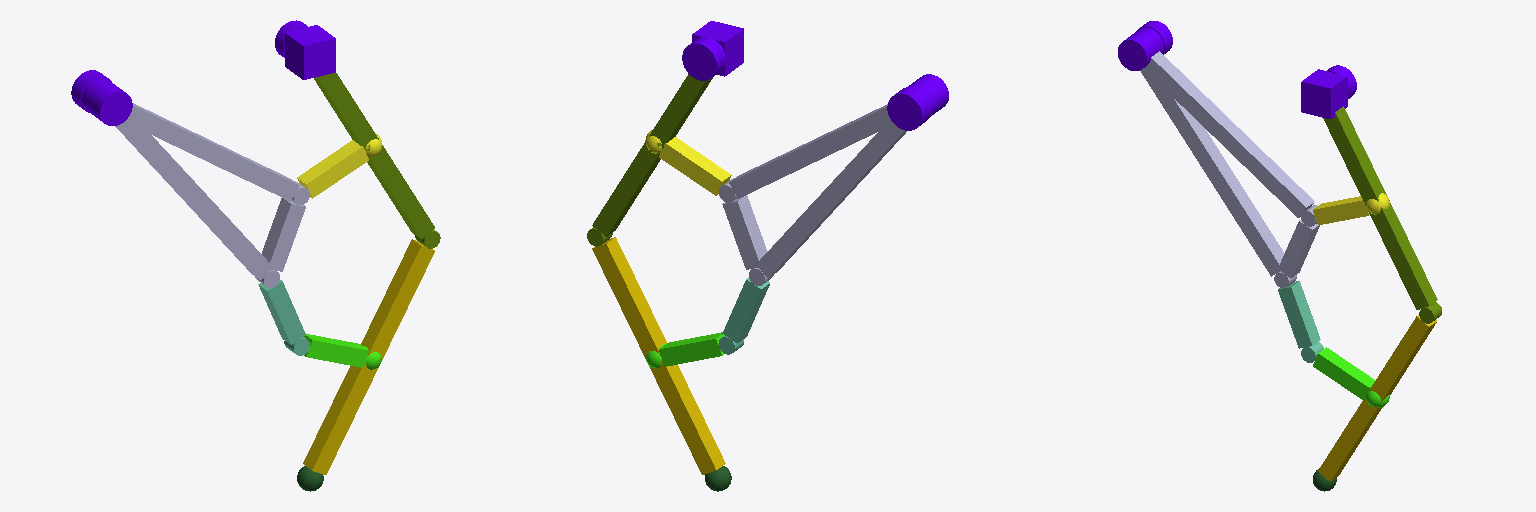
robot.urdf — Robot:
<?xml version="1.0"?>
<robot  name="Robot">
 <link  name="L3" >
  <visual >
   <origin  xyz="-2.0816681711721685e-17 0.0 0.4330127018922193"  rpy="0.0 0.0 0.0" />
   <geometry >
    <box  size="0.03999999910593033 0.03999999910593033 0.24867513548888254" />
   </geometry>
   <material  name="L3_Material" >
    <color  rgba="0.44074609925444386 0.5905354521064672 0.08480606961981618 1.0" />
   </material>
  </visual>
  <collision  name="L3_0_Collision" >
   <origin  xyz="-2.0816681711721685e-17 0.0 0.4330127018922193"  rpy="0.0 0.0 0.0" />
   <geometry >
    <box  size="0.03999999910593033 0.03999999910593033 0.24867513548888254" />
   </geometry>
  </collision>
  <visual >
   <origin  xyz="-6.938893903907228e-18 0.0 0.14433756729740643"  rpy="0.0 0.0 0.0" />
   <geometry >
    <box  size="0.03999999910593033 0.03999999910593033 0.24867513548888254" />
   </geometry>
   <material  name="L3_Material" >
    <color  rgba="0.44074609925444386 0.5905354521064672 0.08480606961981618 1.0" />
   </material>
  </visual>
  <collision  name="L3_1_Collision" >
   <origin  xyz="-6.938893903907228e-18 0.0 0.14433756729740643"  rpy="0.0 0.0 0.0" />
   <geometry >
    <box  size="0.03999999910593033 0.03999999910593033 0.24867513548888254" />
   </geometry>
  </collision>
  <visual >
   <origin  xyz="-1.3877787807814457e-17 0.0 0.28867513459481287"  rpy="0.0 0.0 0.0" />
   <geometry >
    <box  size="0.03999999910593033 0.03999999910593033 0.5373502700836954" />
   </geometry>
   <material  name="L3_Material" >
    <color  rgba="0.44074609925444386 0.5905354521064672 0.08480606961981618 1.0" />
   </material>
  </visual>
  <collision  name="L3_2_Collision" >
   <origin  xyz="-1.3877787807814457e-17 0.0 0.28867513459481287"  rpy="0.0 0.0 0.0" />
   <geometry >
    <box  size="0.03999999910593033 0.03999999910593033 0.5373502700836954" />
   </geometry>
  </collision>
  <inertial >
   <origin  xyz="-0.0 0.0 0.28868"  rpy="0.0 0.0 0.0" />
   <mass  value="0.8907689643113298" />
   <inertia  ixz="0.07992171105215214"  iyz="0.0"  iyy="0.3018999396288964"  izz="0.024951427653936358"  ixy="1.089042360755529e-19"  ixx="0.2771860503548242" />
  </inertial>
 </link>
 <link  name="G" >
  <visual >
   <origin  xyz="0.0 0.0 0.0"  rpy="0.0 0.0 0.0" />
   <geometry >
    <box  size="0.08 0.08 0.08" />
   </geometry>
   <material  name="G_Material" >
    <color  rgba="0.4455553401076836 0.021199425119947546 0.9921228570683995 1.0" />
   </material>
  </visual>
  <collision  name="G_Collision" >
   <origin  xyz="0.0 0.0 0.0"  rpy="0.0 0.0 0.0" />
   <geometry >
    <box  size="0.08 0.08 0.08" />
   </geometry>
  </collision>
  <inertial >
   <origin  xyz="0.0 0.0 0.0"  rpy="0.0 0.0 0.0" />
   <mass  value="0.4937142857142858" />
   <inertia  ixz="0.0"  iyz="0.0"  iyy="0.0005266285714285715"  izz="0.0005266285714285715"  ixy="0.0"  ixx="0.0005266285714285715" />
  </inertial>
 </link>
 <link  name="L4" >
  <visual >
   <origin  xyz="2.7755575615628914e-17 0.0 0.28867513459481287"  rpy="0.0 0.0 0.0" />
   <geometry >
    <box  size="0.03999999910593033 0.03999999910593033 0.5373502700836954" />
   </geometry>
   <material  name="L4_Material" >
    <color  rgba="0.8559306353982249 0.7466780247296667 0.04568936286583325 1.0" />
   </material>
  </visual>
  <collision  name="L4_0_Collision" >
   <origin  xyz="2.7755575615628914e-17 0.0 0.28867513459481287"  rpy="0.0 0.0 0.0" />
   <geometry >
    <box  size="0.03999999910593033 0.03999999910593033 0.5373502700836954" />
   </geometry>
  </collision>
  <visual >
   <origin  xyz="2.7755575615628914e-17 0.0 0.14433756729740643"  rpy="0.0 0.0 0.0" />
   <geometry >
    <box  size="0.03999999910593033 0.03999999910593033 0.24867513548888254" />
   </geometry>
   <material  name="L4_Material" >
    <color  rgba="0.8559306353982249 0.7466780247296667 0.04568936286583325 1.0" />
   </material>
  </visual>
  <collision  name="L4_1_Collision" >
   <origin  xyz="2.7755575615628914e-17 0.0 0.14433756729740643"  rpy="0.0 0.0 0.0" />
   <geometry >
    <box  size="0.03999999910593033 0.03999999910593033 0.24867513548888254" />
   </geometry>
  </collision>
  <visual >
   <origin  xyz="5.551115123125783e-17 0.0 0.4330127018922193"  rpy="0.0 0.0 0.0" />
   <geometry >
    <box  size="0.03999999910593033 0.03999999910593033 0.24867513548888254" />
   </geometry>
   <material  name="L4_Material" >
    <color  rgba="0.8559306353982249 0.7466780247296667 0.04568936286583325 1.0" />
   </material>
  </visual>
  <collision  name="L4_2_Collision" >
   <origin  xyz="5.551115123125783e-17 0.0 0.4330127018922193"  rpy="0.0 0.0 0.0" />
   <geometry >
    <box  size="0.03999999910593033 0.03999999910593033 0.24867513548888254" />
   </geometry>
  </collision>
  <inertial >
   <origin  xyz="0.0 0.0 0.28868"  rpy="0.0 0.0 0.0" />
   <mass  value="0.890768782780219" />
   <inertia  ixz="0.12288168914925403"  iyz="1.9457989558330127e-11"  iyy="1.004431387018112"  izz="0.024951424576292305"  ixy="1.1234074518331488e-11"  ixx="0.9797175007691247" />
  </inertial>
 </link>
 <link  name="EE" >
  <visual >
   <origin  xyz="0.0 0.0 0.0"  rpy="0.0 0.0 0.0" />
   <geometry >
    <sphere  radius="0.028571428571428574" />
   </geometry>
   <material  name="EE_Material" >
    <color  rgba="0.18745021040874899 0.3921332715770274 0.20689540261187223 1.0" />
   </material>
  </visual>
  <collision  name="EE_Collision" >
   <origin  xyz="0.0 0.0 0.0"  rpy="0.0 0.0 0.0" />
   <geometry >
    <sphere  radius="0.028571428571428574" />
   </geometry>
  </collision>
  <inertial >
   <origin  xyz="0.0 0.0 0.0"  rpy="0.0 0.0 0.0" />
   <mass  value="0.09420852605517083" />
   <inertia  ixz="0.0"  iyz="0.0"  iyy="3.0761967691484357e-05"  izz="3.0761967691484357e-05"  ixy="0.0"  ixx="3.0761967691484357e-05" />
  </inertial>
 </link>
 <link  name="L8" >
  <visual >
   <origin  xyz="0.0 0.0 0.09567"  rpy="0.0 0.0 0.0" />
   <geometry >
    <box  size="0.04 0.04 0.15134171618254486" />
   </geometry>
   <material  name="L8_Material" >
    <color  rgba="0.9489117330034907 0.9284521836428632 0.18824955644449526 1.0" />
   </material>
  </visual>
  <collision  name="L8_Collision" >
   <origin  xyz="0.0 0.0 0.09567"  rpy="0.0 0.0 0.0" />
   <geometry >
    <box  size="0.04 0.04 0.15134171618254486" />
   </geometry>
  </collision>
  <inertial >
   <origin  xyz="0.0 0.0 0.09567"  rpy="0.0 0.0 0.0" />
   <mass  value="0.2334986478244978" />
   <inertia  ixz="0.0"  iyz="0.0"  iyy="0.0004768103693077654"  izz="6.226630608653275e-05"  ixy="0.0"  ixx="0.0004768103693077654" />
  </inertial>
 </link>
 <link  name="L7" >
  <visual >
   <origin  xyz="-0.08348220290987414 0.0 0.27166586136223553"  rpy="0.0 -0.2981381045556848 0.0" />
   <geometry >
    <box  size="0.03999999910593033 0.03999999910593033 0.5284069622602048" />
   </geometry>
   <material  name="L7_Material" >
    <color  rgba="0.743225161276551 0.7365706971572281 0.8635250496308112 1.0" />
   </material>
  </visual>
  <collision  name="L7_0_Collision" >
   <origin  xyz="-0.08348220290987414 0.0 0.27166586136223553"  rpy="0.0 -0.2981381045556848 0.0" />
   <geometry >
    <box  size="0.03999999910593033 0.03999999910593033 0.5284069622602048" />
   </geometry>
  </collision>
  <visual >
   <origin  xyz="-1.1102230246251565e-16 0.0 0.31839524061378355"  rpy="0.0 0.0 0.0" />
   <geometry >
    <box  size="0.03999999910593033 0.03999999910593033 0.5967904821216368" />
   </geometry>
   <material  name="L7_Material" >
    <color  rgba="0.743225161276551 0.7365706971572281 0.8635250496308112 1.0" />
   </material>
  </visual>
  <collision  name="L7_1_Collision" >
   <origin  xyz="-1.1102230246251565e-16 0.0 0.31839524061378355"  rpy="0.0 0.0 0.0" />
   <geometry >
    <box  size="0.03999999910593033 0.03999999910593033 0.5967904821216368" />
   </geometry>
  </collision>
  <visual >
   <origin  xyz="-0.08348220290987425 0.0 0.5900611019760191"  rpy="0.0 1.0604963701704433 0.0" />
   <geometry >
    <box  size="0.03999999910593033 0.03999999910593033 0.15134171707661453" />
   </geometry>
   <material  name="L7_Material" >
    <color  rgba="0.743225161276551 0.7365706971572281 0.8635250496308112 1.0" />
   </material>
  </visual>
  <collision  name="L7_2_Collision" >
   <origin  xyz="-0.08348220290987425 0.0 0.5900611019760191"  rpy="0.0 1.0604963701704433 0.0" />
   <geometry >
    <box  size="0.03999999910593033 0.03999999910593033 0.15134171707661453" />
   </geometry>
  </collision>
  <inertial >
   <origin  xyz="-0.05565 0.0 0.39337"  rpy="0.0 0.0 0.0" />
   <mass  value="2.013151705710374" />
   <inertia  ixz="-0.2161467496764618"  iyz="-2.1419829672520126e-19"  iyy="0.9622692836418173"  izz="0.11074845174673736"  ixy="9.015364922924458e-19"  ixx="0.8520576723259374" />
  </inertial>
 </link>
 <link  name="L6" >
  <visual >
   <origin  xyz="0.0 0.0 0.09567"  rpy="0.0 0.0 0.0" />
   <geometry >
    <box  size="0.04 0.04 0.15134171618254486" />
   </geometry>
   <material  name="L6_Material" >
    <color  rgba="0.4522280606632063 0.7847087756890495 0.6589466429160912 1.0" />
   </material>
  </visual>
  <collision  name="L6_Collision" >
   <origin  xyz="0.0 0.0 0.09567"  rpy="0.0 0.0 0.0" />
   <geometry >
    <box  size="0.04 0.04 0.15134171618254486" />
   </geometry>
  </collision>
  <inertial >
   <origin  xyz="0.0 0.0 0.09567"  rpy="0.0 0.0 0.0" />
   <mass  value="0.2334986478244978" />
   <inertia  ixz="0.0"  iyz="0.0"  iyy="0.0004768103693077654"  izz="6.226630608653275e-05"  ixy="0.0"  ixx="0.0004768103693077654" />
  </inertial>
 </link>
 <link  name="L5" >
  <visual >
   <origin  xyz="0.0 0.0 0.09567"  rpy="0.0 0.0 0.0" />
   <geometry >
    <box  size="0.04 0.04 0.1513417161825449" />
   </geometry>
   <material  name="L5_Material" >
    <color  rgba="0.3072069057733231 0.954402801538666 0.12209650394690086 1.0" />
   </material>
  </visual>
  <collision  name="L5_Collision" >
   <origin  xyz="0.0 0.0 0.09567"  rpy="0.0 0.0 0.0" />
   <geometry >
    <box  size="0.04 0.04 0.1513417161825449" />
   </geometry>
  </collision>
  <inertial >
   <origin  xyz="0.0 0.0 0.09567"  rpy="0.0 0.0 0.0" />
   <mass  value="0.2334986478244979" />
   <inertia  ixz="0.0"  iyz="0.0"  iyy="0.0004768103693077659"  izz="6.226630608653276e-05"  ixy="0.0"  ixx="0.0004768103693077659" />
  </inertial>
 </link>
 <joint  type="revolute"  name="TL_ground" >
  <parent  link="G" />
  <child  link="L3" />
  <origin  xyz="0.0 0.0 0.0"  rpy="3.141592653589793 0.5235987755982991 3.141592653589793" />
  <axis  xyz="0 1 0" />
  <limit  lower="-3.141592653589793"  effort="10.799999999999999"  velocity="29.845130209103036"  upper="3.141592653589793" />
  <dynamics  damping="0.05"  friction="0" />
 </joint>
 <joint  type="fixed"  name="TL_ground_G_WeldActuator" >
  <parent  link="G" />
  <child  link="TL_ground_GActuator" />
  <origin  xyz="0.0 0.05925 0.0"  rpy="-1.5707963267948966 0.5235987755982991 -3.141592653589793" />
 </joint>
 <link  name="TL_ground_GActuator" >
  <visual >
   <geometry >
    <cylinder  length="0.0385"  radius="0.0425" />
   </geometry>
   <material  name="TL_ground_GActuator_Material" >
    <color  rgba="0.4455553401076836 0.021199425119947546 0.9921228570683995 0.9" />
   </material>
  </visual>
  <inertial >
   <inertia  ixz="0.0"  iyz="0.0"  iyy="0.006709166666666667"  izz="0.010306250000000001"  ixy="0.0"  ixx="0.006709166666666667" />
   <mass  value="0.1" />
  </inertial>
 </link>
 <link  name="TL_ground_GUnit" >
  <visual >
   <geometry >
    <cylinder  length="0.08"  radius="0.04" />
   </geometry>
   <material  name="TL_ground_GUnit_Material" >
    <color  rgba="0.4455553401076836 0.021199425119947546 0.9921228570683995 0.9" />
   </material>
  </visual>
  <inertial >
   <inertia  ixz="0.0"  iyz="0.0"  iyy="0.0016666666666666666"  izz="0.002"  ixy="0.0"  ixx="0.0016666666666666666" />
   <mass  value="0.1" />
  </inertial>
 </link>
 <joint  type="fixed"  name="TL_ground_G_WeldUnit" >
  <parent  link="G" />
  <child  link="TL_ground_GUnit" />
  <origin  xyz="0.0 0.0 0.0"  rpy="-1.5707963267948966 0.5235987755982991 -3.141592653589793" />
 </joint>
 <joint  type="revolute"  name="TL_knee" >
  <parent  link="L3" />
  <child  link="L4" />
  <origin  xyz="-2.7755575615628914e-17 0.0 0.5773502691896257"  rpy="0.0 1.0471975511965979 0.0" />
  <axis  xyz="0 1 0" />
  <limit  lower="-3.141592653589793"  effort="600.0"  velocity="6.283185307179586"  upper="3.141592653589793" />
  <dynamics  damping="0.05"  friction="0" />
 </joint>
 <link  name="TL_knee_L3Unit" >
  <visual >
   <geometry >
    <cylinder  length="0.03999999910593033"  radius="0.019999999552965164" />
   </geometry>
   <material  name="TL_knee_L3Unit_Material" >
    <color  rgba="0.44074609925444386 0.5905354521064672 0.08480606961981618 0.9" />
   </material>
  </visual>
  <inertial >
   <inertia  ixz="0.0"  iyz="0.0"  iyy="0.0008333333147068819"  izz="0.0009999999776482583"  ixy="0.0"  ixx="0.0008333333147068819" />
   <mass  value="0.1" />
  </inertial>
 </link>
 <joint  type="fixed"  name="TL_knee_L3_WeldUnit" >
  <parent  link="L3" />
  <child  link="TL_knee_L3Unit" />
  <origin  xyz="-2.7755575615628914e-17 0.0 0.5773502691896257"  rpy="1.5707963267948961 1.0471975511965979 -2.220446049250313e-16" />
 </joint>
 <joint  type="revolute"  name="TL_ee" >
  <parent  link="L4" />
  <child  link="EE" />
  <origin  xyz="5.551115123125783e-17 0.0 0.5773502691896257"  rpy="3.141592653589793 0.5235987755982991 3.141592653589793" />
  <axis  xyz="0 1 0" />
  <limit  lower="-3.141592653589793"  effort="600.0"  velocity="6.283185307179586"  upper="3.141592653589793" />
  <dynamics  damping="0.05"  friction="0" />
 </joint>
 <link  name="TL_ee_L4Unit" >
  <visual >
   <geometry >
    <cylinder  length="0.03999999910593033"  radius="0.019999999552965164" />
   </geometry>
   <material  name="TL_ee_L4Unit_Material" >
    <color  rgba="0.8559306353982249 0.7466780247296667 0.04568936286583325 0.9" />
   </material>
  </visual>
  <inertial >
   <inertia  ixz="0.0"  iyz="0.0"  iyy="0.0008333333147068819"  izz="0.0009999999776482583"  ixy="0.0"  ixx="0.0008333333147068819" />
   <mass  value="0.1" />
  </inertial>
 </link>
 <joint  type="fixed"  name="TL_ee_L4_WeldUnit" >
  <parent  link="L4" />
  <child  link="TL_ee_L4Unit" />
  <origin  xyz="5.551115123125783e-17 0.0 0.5773502691896257"  rpy="-1.5707963267948966 0.5235987755982991 -3.141592653589793" />
 </joint>
 <link  name="FL_branch_top_L8Pseudo" >
  <visual >
   <geometry >
    <sphere  radius="0.028571428571428574" />
   </geometry>
   <material  name="FL_branch_top_L8Pseudo_Material" >
    <color  rgba="0.9489117330034907 0.9284521836428632 0.18824955644449526 0.5" />
   </material>
  </visual>
  <inertial >
   <mass  value="0.05" />
   <inertia  ixz="0.0"  iyz="0.0"  iyy="1.6326530612244903e-05"  izz="1.6326530612244903e-05"  ixy="0.0"  ixx="1.6326530612244903e-05" />
  </inertial>
 </link>
 <joint  type="revolute"  name="FL_branch_top_L8_revolute" >
  <parent  link="L8" />
  <child  link="FL_branch_top_L8Pseudo" />
  <origin  xyz="0.0 0.0 0.19134171618254486"  rpy="0.0 0.0 0.0" />
  <axis  xyz="0 1 0" />
  <limit  lower="-3.141592653589793"  effort="600.0"  velocity="6.283185307179586"  upper="3.141592653589793" />
  <dynamics  damping="0.05"  friction="0" />
 </joint>
 <joint  type="fixed"  name="FL_branch_top_L8_Weld" >
  <parent  link="L3" />
  <child  link="FL_branch_top_L3Pseudo" />
  <origin  xyz="2.7755575615628914e-17 0.0 0.28867513459481287"  rpy="0.0 -1.439896632895322 0.0" />
 </joint>
 <link  name="FL_branch_top_L3Pseudo" >
  <visual >
   <geometry >
    <sphere  radius="0.02857142793280738" />
   </geometry>
   <material  name="FL_branch_top_L3Pseudo_Material" >
    <color  rgba="0.44074609925444386 0.5905354521064672 0.08480606961981618 0.5" />
   </material>
  </visual>
  <inertial >
   <mass  value="0.05" />
   <inertia  ixz="0.0"  iyz="0.0"  iyy="1.632652988239212e-05"  izz="1.632652988239212e-05"  ixy="0.0"  ixx="1.632652988239212e-05" />
  </inertial>
 </link>
 <joint  type="revolute"  name="FL_branch_j0" >
  <parent  link="L7" />
  <child  link="L8" />
  <origin  xyz="-0.16696440581974828 0.0 0.5433317227244711"  rpy="0.0 -1.295698120021902 0.0" />
  <axis  xyz="0 1 0" />
  <limit  lower="-3.141592653589793"  effort="600.0"  velocity="6.283185307179586"  upper="3.141592653589793" />
  <dynamics  damping="0.05"  friction="0" />
 </joint>
 <link  name="FL_branch_j0_L7Unit" >
  <visual >
   <geometry >
    <cylinder  length="0.03999999910593033"  radius="0.019999999552965164" />
   </geometry>
   <material  name="FL_branch_j0_L7Unit_Material" >
    <color  rgba="0.743225161276551 0.7365706971572281 0.8635250496308112 0.9" />
   </material>
  </visual>
  <inertial >
   <inertia  ixz="0.0"  iyz="0.0"  iyy="0.0008333333147068819"  izz="0.0009999999776482583"  ixy="0.0"  ixx="0.0008333333147068819" />
   <mass  value="0.1" />
  </inertial>
 </link>
 <joint  type="fixed"  name="FL_branch_j0_L7_WeldUnit" >
  <parent  link="L7" />
  <child  link="FL_branch_j0_L7Unit" />
  <origin  xyz="-0.16696440581974828 0.0 0.5433317227244711"  rpy="1.5707963267948961 -1.295698120021902 2.220446049250313e-16" />
 </joint>
 <joint  type="revolute"  name="FL_branch_j1" >
  <parent  link="L7" />
  <child  link="L6" />
  <origin  xyz="-2.220446049250313e-16 0.0 0.6367904812275671"  rpy="0.0 0.27509820677299457 0.0" />
  <axis  xyz="0 1 0" />
  <limit  lower="-3.141592653589793"  effort="600.0"  velocity="6.283185307179586"  upper="3.141592653589793" />
  <dynamics  damping="0.05"  friction="0" />
 </joint>
 <link  name="FL_branch_j1_L7Unit" >
  <visual >
   <geometry >
    <cylinder  length="0.03999999910593033"  radius="0.019999999552965164" />
   </geometry>
   <material  name="FL_branch_j1_L7Unit_Material" >
    <color  rgba="0.743225161276551 0.7365706971572281 0.8635250496308112 0.9" />
   </material>
  </visual>
  <inertial >
   <inertia  ixz="0.0"  iyz="0.0"  iyy="0.0008333333147068819"  izz="0.0009999999776482583"  ixy="0.0"  ixx="0.0008333333147068819" />
   <mass  value="0.1" />
  </inertial>
 </link>
 <joint  type="fixed"  name="FL_branch_j1_L7_WeldUnit" >
  <parent  link="L7" />
  <child  link="FL_branch_j1_L7Unit" />
  <origin  xyz="-2.220446049250313e-16 0.0 0.6367904812275671"  rpy="1.5707963267948966 0.27509820677299457 1.1102230246251565e-16" />
 </joint>
 <joint  type="revolute"  name="FL_branch_j2" >
  <parent  link="L6" />
  <child  link="L5" />
  <origin  xyz="0.0 0.0 0.19134171618254486"  rpy="0.0 -0.7853981633974484 0.0" />
  <axis  xyz="0 1 0" />
  <limit  lower="-3.141592653589793"  effort="600.0"  velocity="6.283185307179586"  upper="3.141592653589793" />
  <dynamics  damping="0.05"  friction="0" />
 </joint>
 <link  name="FL_branch_j2_L6Unit" >
  <visual >
   <geometry >
    <cylinder  length="0.04"  radius="0.02" />
   </geometry>
   <material  name="FL_branch_j2_L6Unit_Material" >
    <color  rgba="0.4522280606632063 0.7847087756890495 0.6589466429160912 0.9" />
   </material>
  </visual>
  <inertial >
   <inertia  ixz="0.0"  iyz="0.0"  iyy="0.0008333333333333333"  izz="0.001"  ixy="0.0"  ixx="0.0008333333333333333" />
   <mass  value="0.1" />
  </inertial>
 </link>
 <joint  type="fixed"  name="FL_branch_j2_L6_WeldUnit" >
  <parent  link="L6" />
  <child  link="FL_branch_j2_L6Unit" />
  <origin  xyz="0.0 0.0 0.19134171618254486"  rpy="1.5707963267948961 -0.7853981633974483 1.1102230246251565e-16" />
 </joint>
 <link  name="FL_branch_bot_L5Pseudo" >
  <visual >
   <geometry >
    <sphere  radius="0.028571428571428574" />
   </geometry>
   <material  name="FL_branch_bot_L5Pseudo_Material" >
    <color  rgba="0.3072069057733231 0.954402801538666 0.12209650394690086 0.5" />
   </material>
  </visual>
  <inertial >
   <mass  value="0.05" />
   <inertia  ixz="0.0"  iyz="0.0"  iyy="1.6326530612244903e-05"  izz="1.6326530612244903e-05"  ixy="0.0"  ixx="1.6326530612244903e-05" />
  </inertial>
 </link>
 <joint  type="revolute"  name="FL_branch_bot_L5_revolute" >
  <parent  link="L5" />
  <child  link="FL_branch_bot_L5Pseudo" />
  <origin  xyz="0.0 0.0 0.1913417161825449"  rpy="0.0 0.0 0.0" />
  <axis  xyz="0 1 0" />
  <limit  lower="-3.141592653589793"  effort="600.0"  velocity="6.283185307179586"  upper="3.141592653589793" />
  <dynamics  damping="0.05"  friction="0" />
 </joint>
 <joint  type="fixed"  name="FL_branch_bot_L5_Weld" >
  <parent  link="L4" />
  <child  link="FL_branch_bot_L4Pseudo" />
  <origin  xyz="2.7755575615628914e-17 0.0 0.2886751345948128"  rpy="3.141592653589793 -1.439896632895322 3.141592653589793" />
 </joint>
 <link  name="FL_branch_bot_L4Pseudo" >
  <visual >
   <geometry >
    <sphere  radius="0.02857142793280738" />
   </geometry>
   <material  name="FL_branch_bot_L4Pseudo_Material" >
    <color  rgba="0.8559306353982249 0.7466780247296667 0.04568936286583325 0.5" />
   </material>
  </visual>
  <inertial >
   <mass  value="0.05" />
   <inertia  ixz="0.0"  iyz="0.0"  iyy="1.632652988239212e-05"  izz="1.632652988239212e-05"  ixy="0.0"  ixx="1.632652988239212e-05" />
  </inertial>
 </link>
 <joint  type="revolute"  name="FL_branch_ground" >
  <parent  link="G" />
  <child  link="L7" />
  <origin  xyz="-0.5 0.0 0.0"  rpy="3.141592653589793 0.6677972884717187 3.141592653589793" />
  <axis  xyz="0 1 0" />
  <limit  lower="-3.141592653589793"  effort="10.799999999999999"  velocity="29.845130209103036"  upper="3.141592653589793" />
  <dynamics  damping="0.05"  friction="0" />
 </joint>
 <joint  type="fixed"  name="FL_branch_ground_G_WeldActuator" >
  <parent  link="G" />
  <child  link="FL_branch_ground_GActuator" />
  <origin  xyz="-0.5 0.05925 0.0"  rpy="-1.5707963267948966 0.6677972884717187 -3.141592653589793" />
 </joint>
 <link  name="FL_branch_ground_GActuator" >
  <visual >
   <geometry >
    <cylinder  length="0.0385"  radius="0.0425" />
   </geometry>
   <material  name="FL_branch_ground_GActuator_Material" >
    <color  rgba="0.4455553401076836 0.021199425119947546 0.9921228570683995 0.9" />
   </material>
  </visual>
  <inertial >
   <inertia  ixz="0.0"  iyz="0.0"  iyy="0.006709166666666667"  izz="0.010306250000000001"  ixy="0.0"  ixx="0.006709166666666667" />
   <mass  value="0.1" />
  </inertial>
 </link>
 <link  name="FL_branch_ground_GUnit" >
  <visual >
   <geometry >
    <cylinder  length="0.08"  radius="0.04" />
   </geometry>
   <material  name="FL_branch_ground_GUnit_Material" >
    <color  rgba="0.4455553401076836 0.021199425119947546 0.9921228570683995 0.9" />
   </material>
  </visual>
  <inertial >
   <inertia  ixz="0.0"  iyz="0.0"  iyy="0.0016666666666666666"  izz="0.002"  ixy="0.0"  ixx="0.0016666666666666666" />
   <mass  value="0.1" />
  </inertial>
 </link>
 <joint  type="fixed"  name="FL_branch_ground_G_WeldUnit" >
  <parent  link="G" />
  <child  link="FL_branch_ground_GUnit" />
  <origin  xyz="-0.5 0.0 0.0"  rpy="-1.5707963267948966 0.6677972884717187 -3.141592653589793" />
 </joint>
 </robot>

--- What the picture shows (computed from the rendered views, not written in the file) ---
The picture shows the robot from 3 angles, left to right: view 1: azimuth 30°, elevation 25°; view 2: azimuth 150°, elevation 25°; view 3: azimuth 330°, elevation 25°; orthographic projection.
Robot: Robot — 21 links, 20 joints (9 revolute, 11 fixed); root link G; default pose: every joint at zero.
Visible links, largest first — view 1: L7, L4, L3, G, L8, FL_branch_ground_GUnit, L6, L5; view 2: L7, L4, L3, L8, L6, TL_ground_GActuator, FL_branch_ground_GActuator, L5, G, FL_branch_ground_GUnit; view 3: L7, L3, L4, G, L6, L5, FL_branch_ground_GUnit, L8.
Boxes of the visible links, x1,y1,x2,y2 form: L7: [115, 103, 305, 279]; L4: [303, 239, 434, 474]; L3: [314, 73, 434, 239]; G: [285, 25, 335, 79]; L8: [297, 140, 368, 198]; FL_branch_ground_GUnit: [81, 78, 132, 125]; L6: [258, 280, 305, 344]; L5: [304, 334, 368, 367]; L7: [722, 104, 906, 278]; L4: [592, 237, 725, 474]; L3: [592, 74, 712, 236]; L8: [659, 137, 731, 195]; L6: [722, 278, 769, 343]; TL_ground_GActuator: [682, 37, 725, 80]; FL_branch_ground_GActuator: [887, 87, 930, 130]; L5: [659, 332, 724, 366]; G: [692, 21, 743, 76]; FL_branch_ground_GUnit: [908, 74, 948, 117]; L7: [1140, 51, 1319, 277]; L3: [1323, 106, 1437, 309]; L4: [1318, 315, 1436, 481]; G: [1301, 69, 1347, 118]; L6: [1278, 281, 1320, 348]; L5: [1313, 347, 1375, 399]; FL_branch_ground_GUnit: [1118, 27, 1163, 70]; L8: [1313, 196, 1369, 224].
Bounding box of the posed robot: 0.851 × 0.1185 × 1.07 m (x, y, z).
Geometry: primitives only (box / cylinder / sphere), no mesh files.